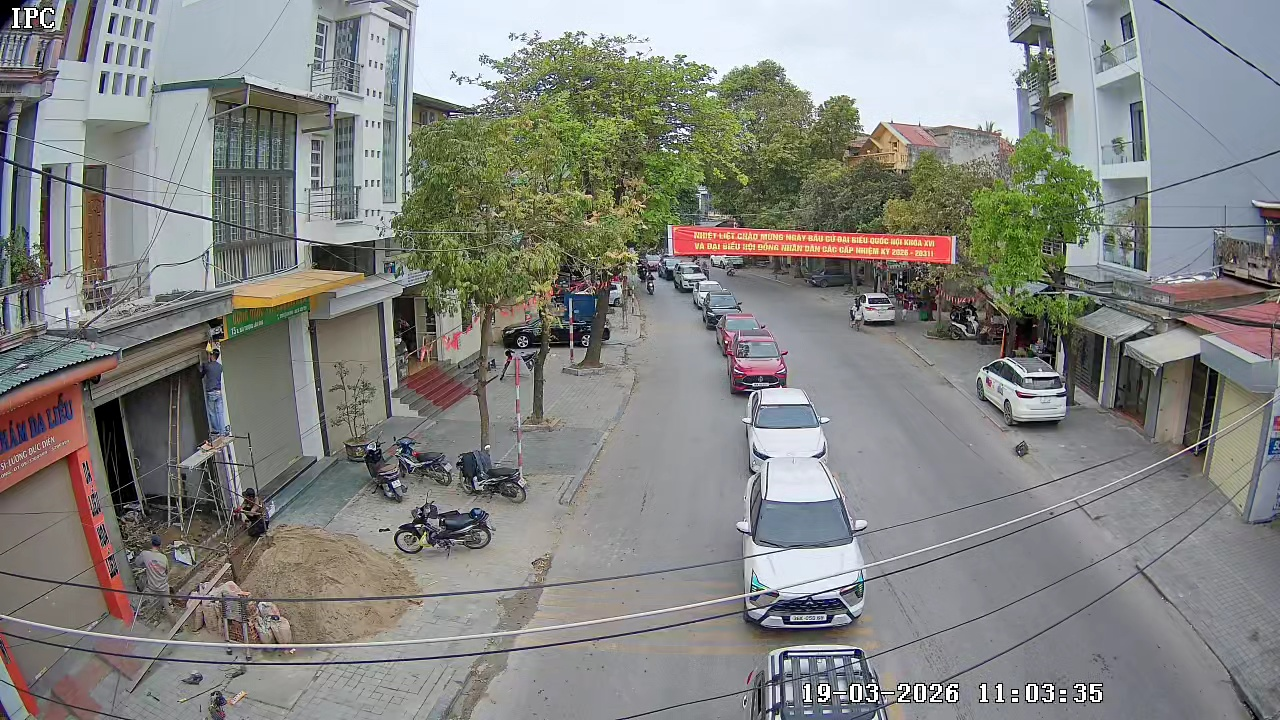car: (734, 460, 870, 630), (741, 384, 833, 469), (974, 352, 1068, 429), (724, 331, 791, 396), (718, 312, 767, 357), (700, 292, 747, 331), (849, 291, 896, 328)
motorbike: (393, 496, 496, 556), (455, 442, 529, 503)
